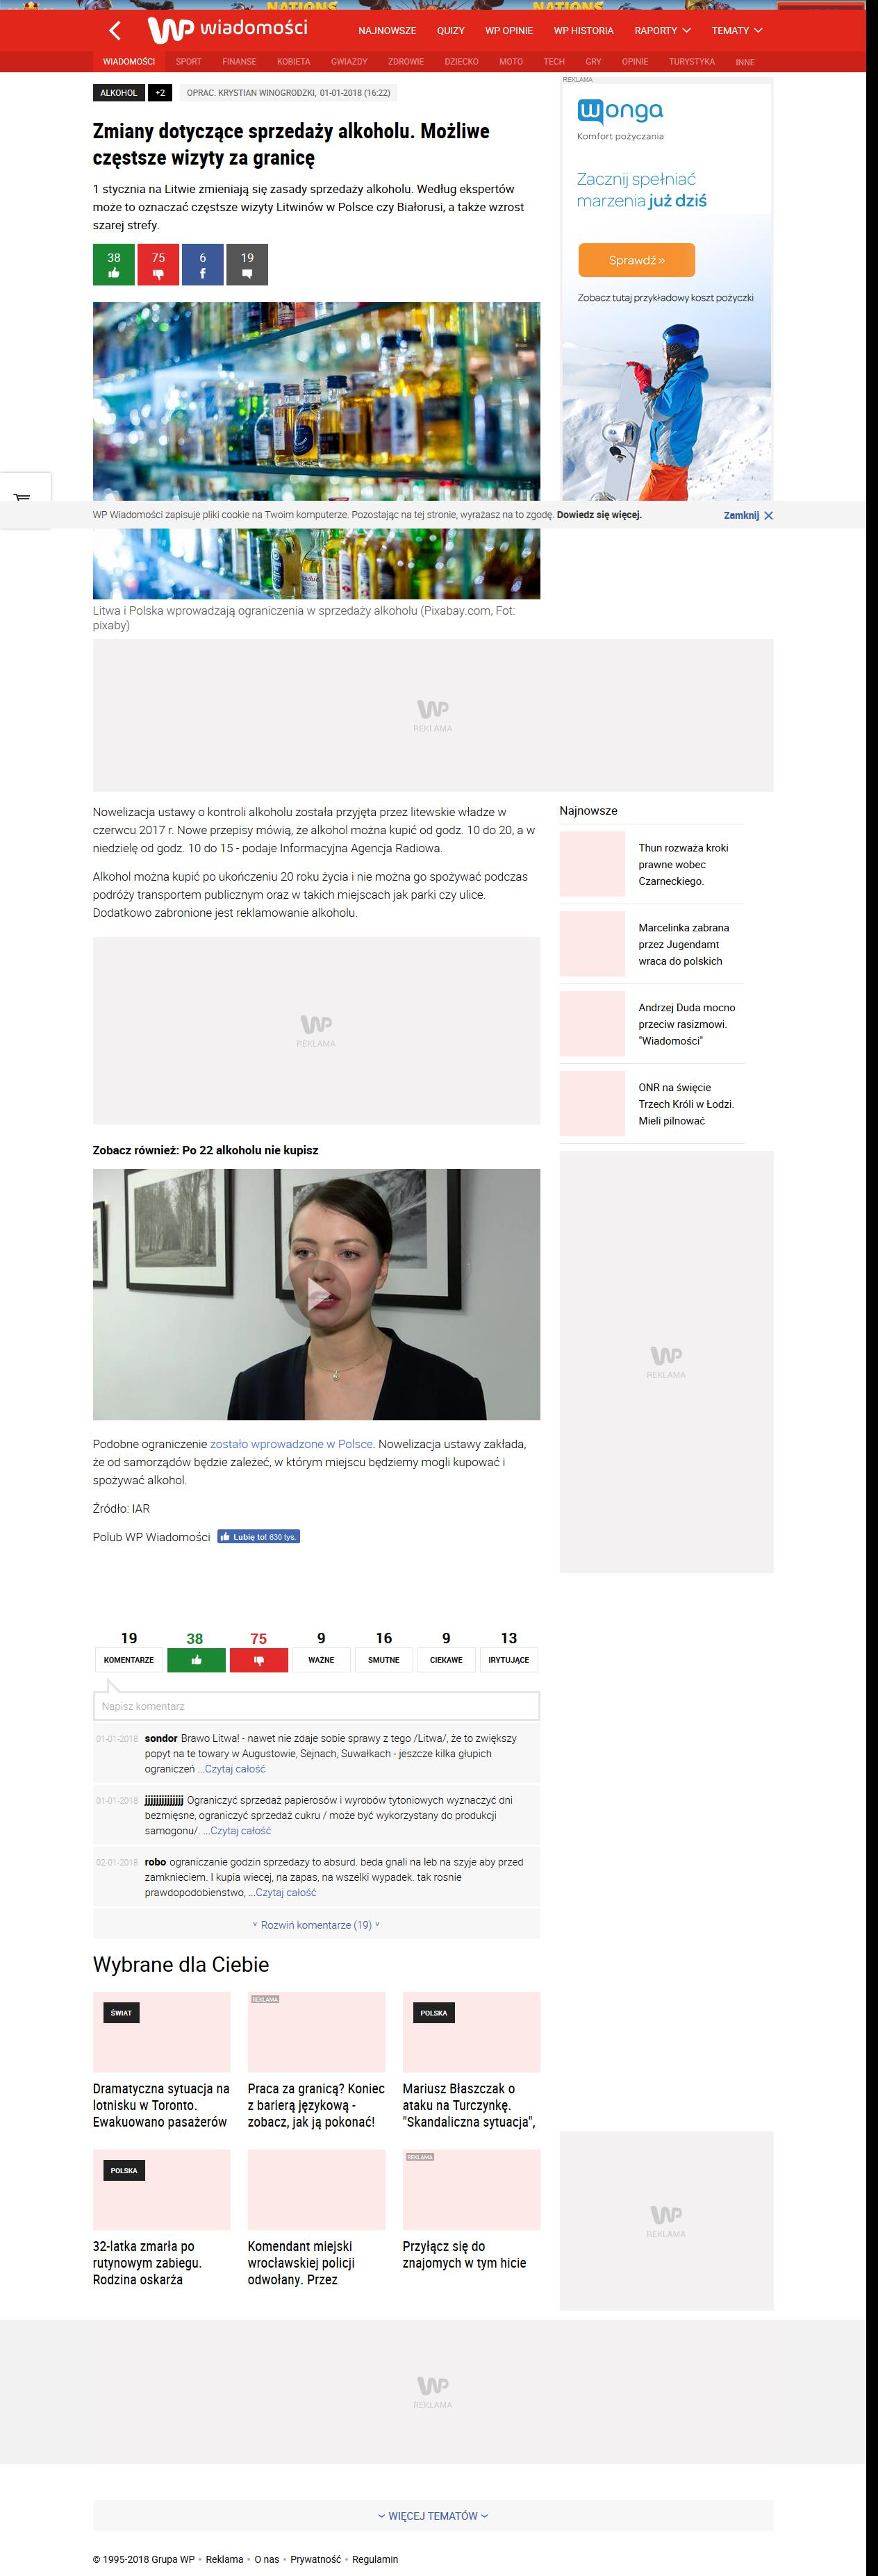title: (92, 122, 490, 169)
